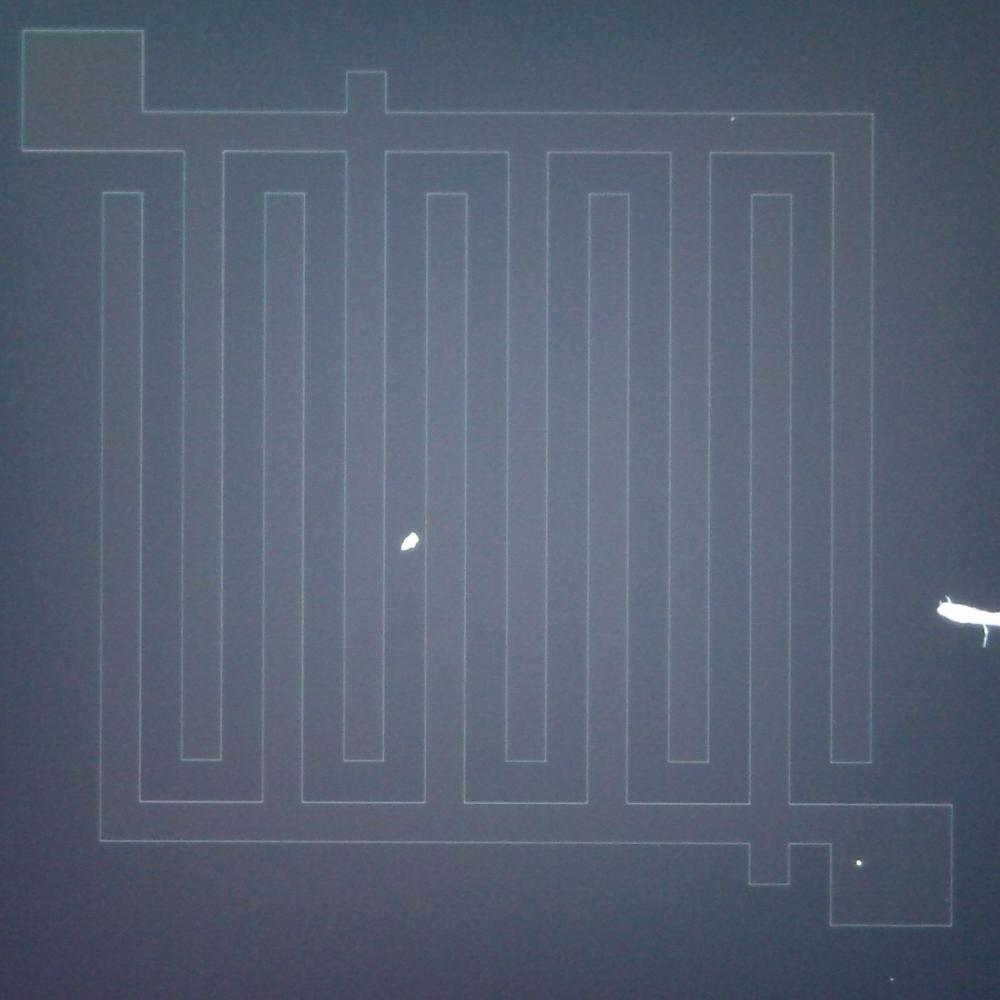budge circuit: (732, 826, 806, 898), (332, 64, 402, 128)
dot: (842, 848, 879, 882)
line: (935, 598, 999, 649)
spot: (389, 526, 424, 558)
